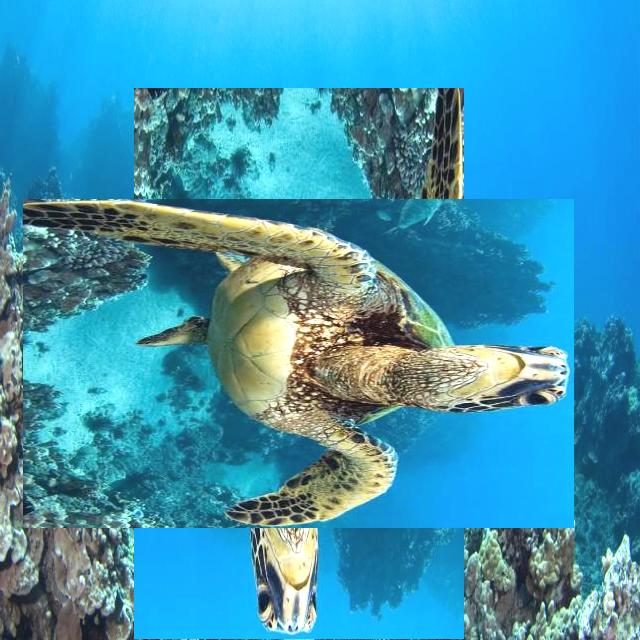Sea turtle: (79, 143, 519, 584)
